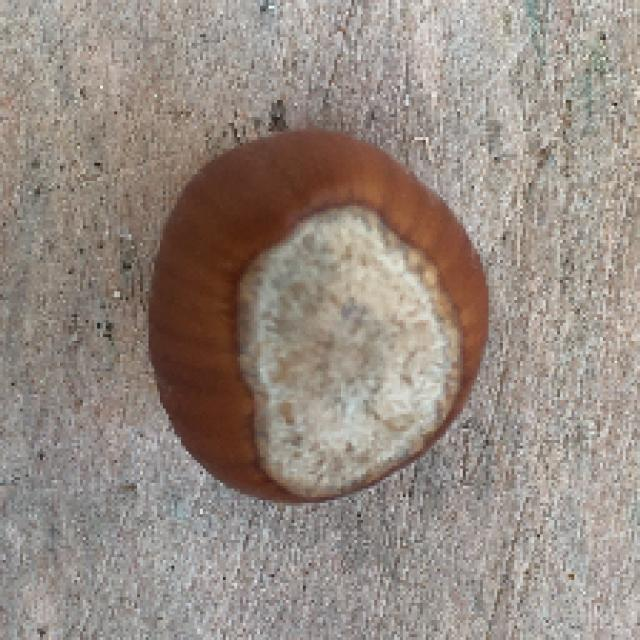qualityHazelnut: (145, 123, 493, 504)
